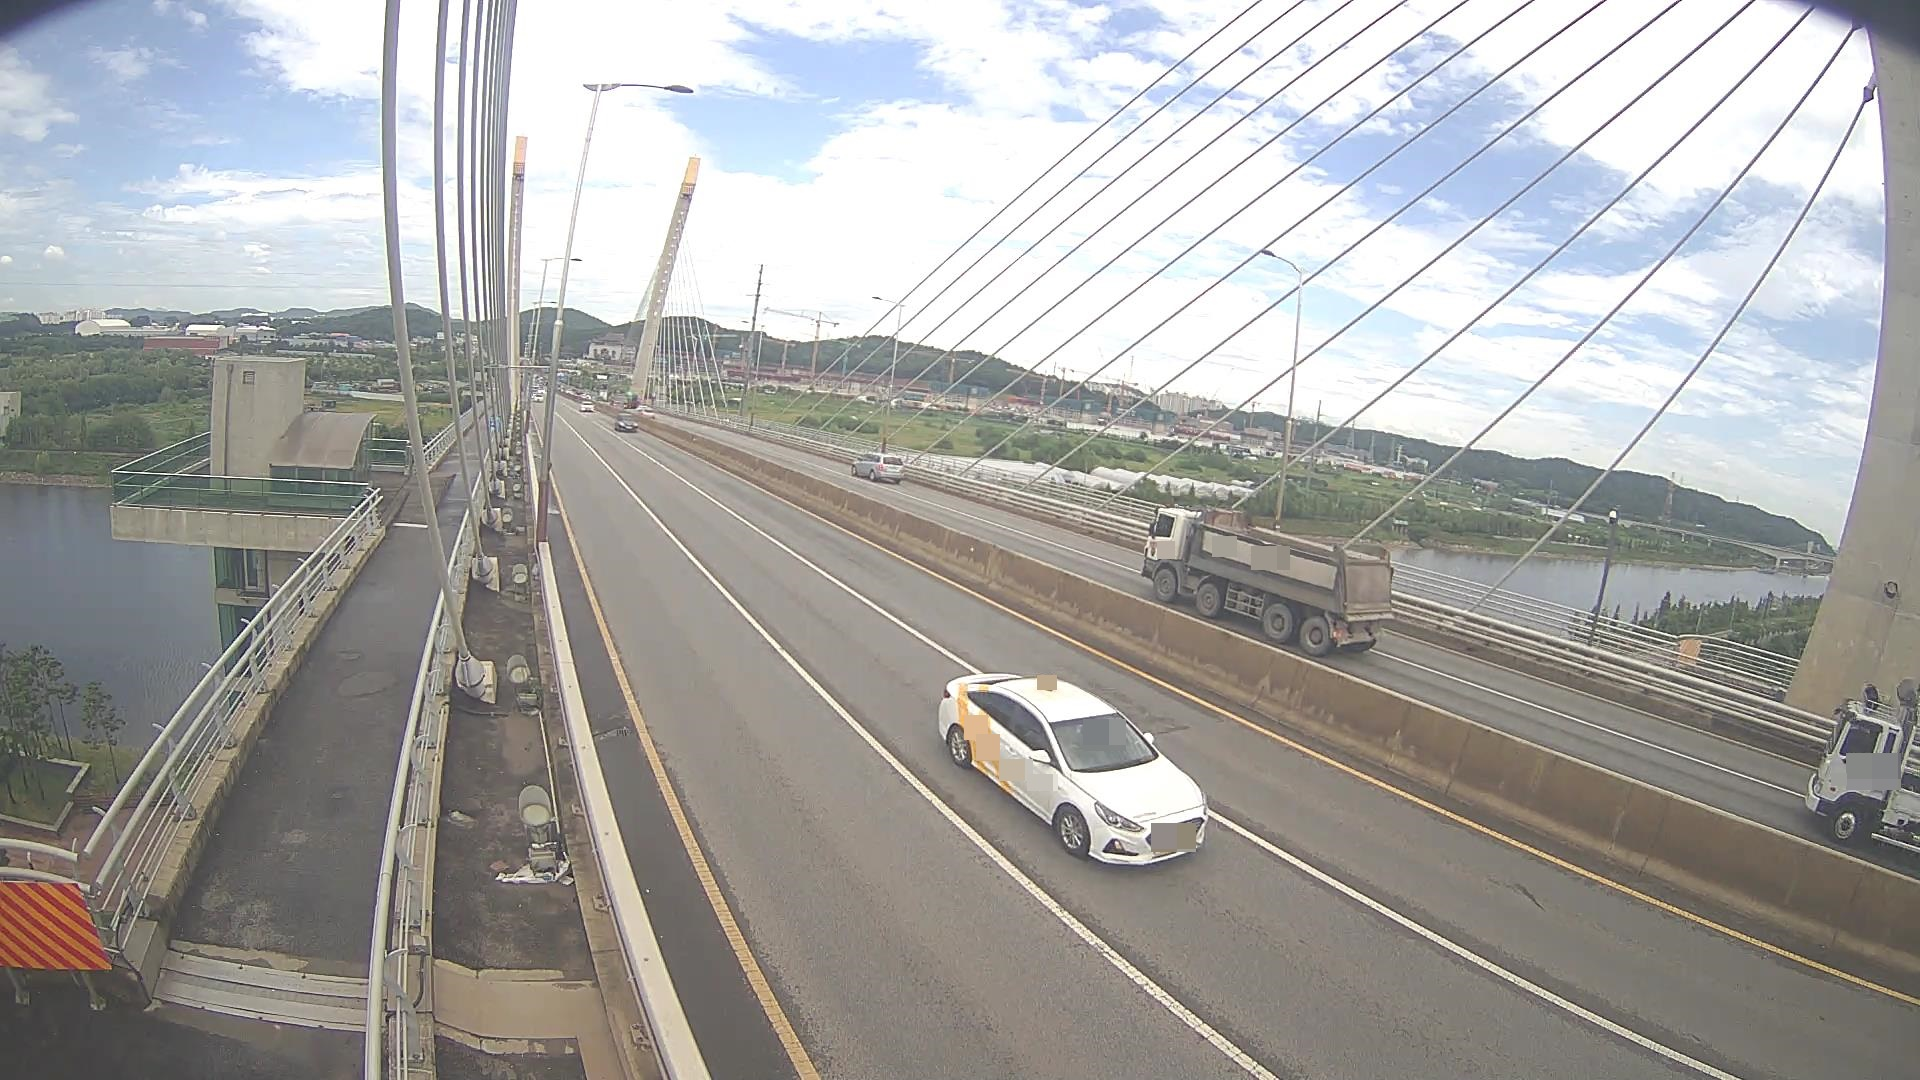정상차량: (1140, 507, 1397, 658)
